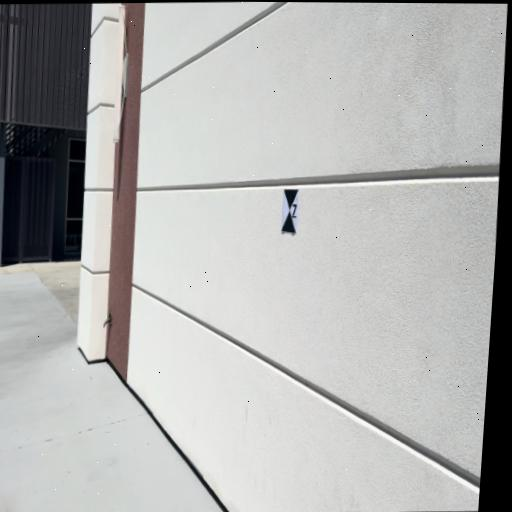target7: (282, 190, 297, 233)
